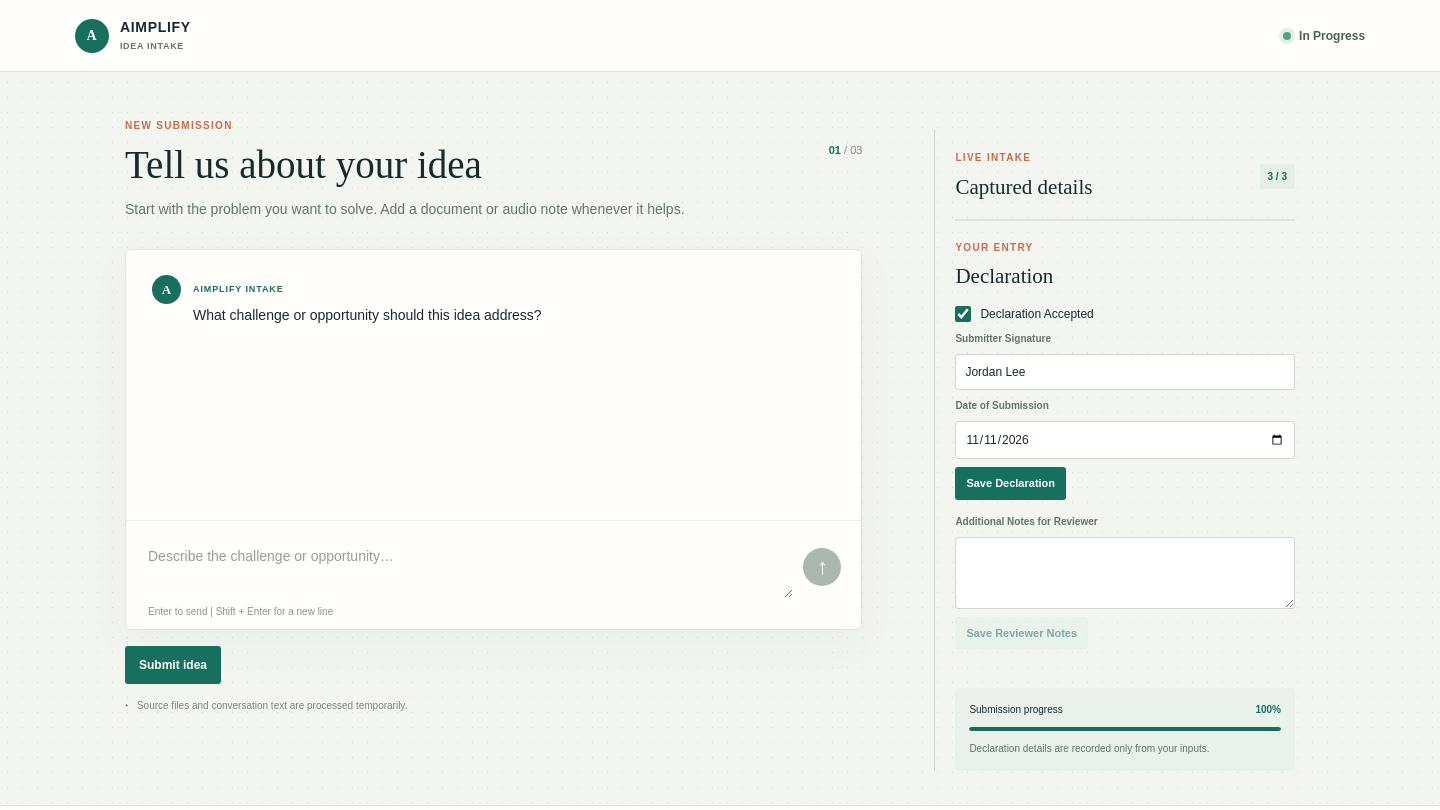
Scenario: submission outcomes › blocks submission while declaration edits are unsaved
This screenshot has width=1440, height=810.
Replace the text in the field labelled "Submitter Signature" with "Changed signature" at (1125, 372), box [955, 354, 1295, 390]
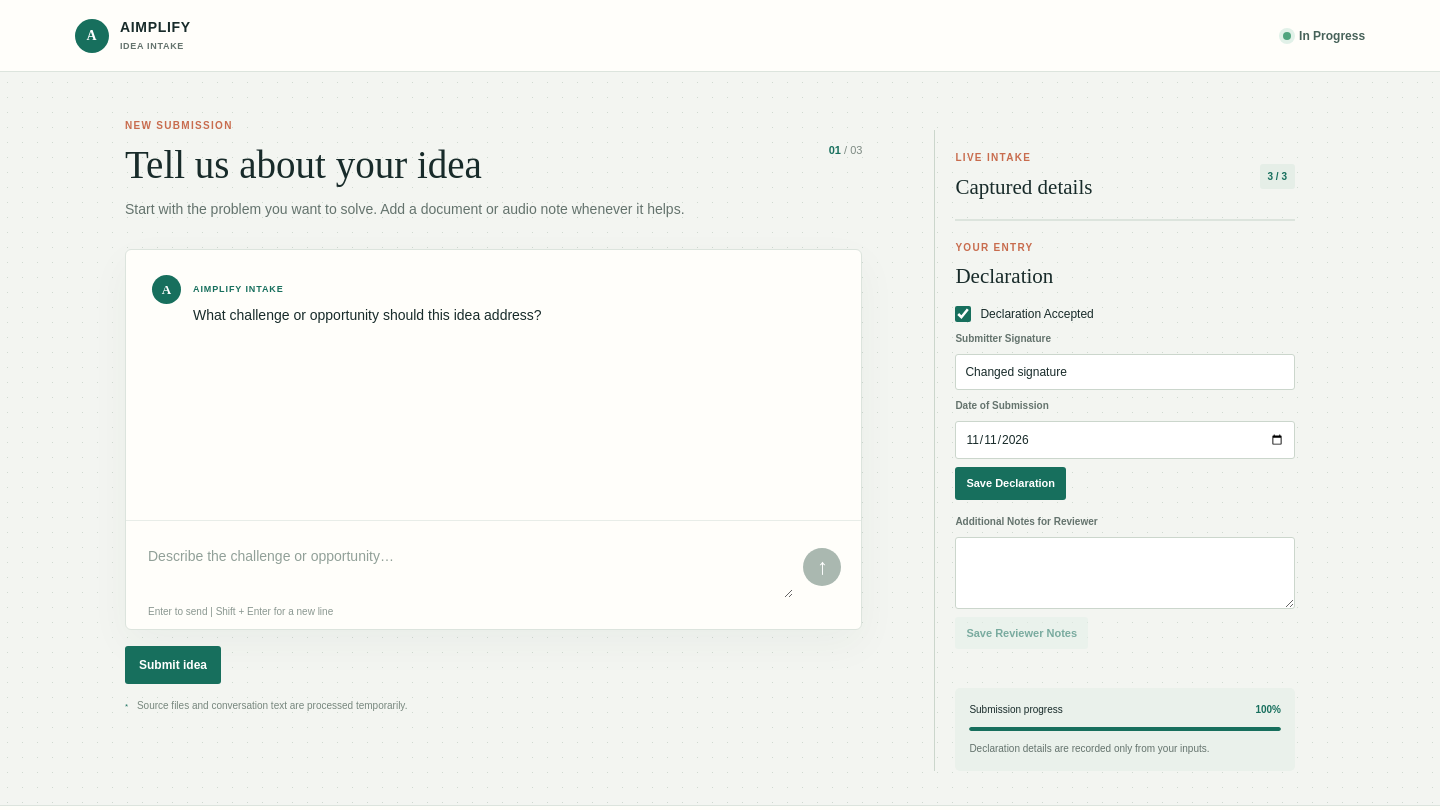
Click the button "Submit idea".
click(173, 665)  # box [125, 646, 221, 684]
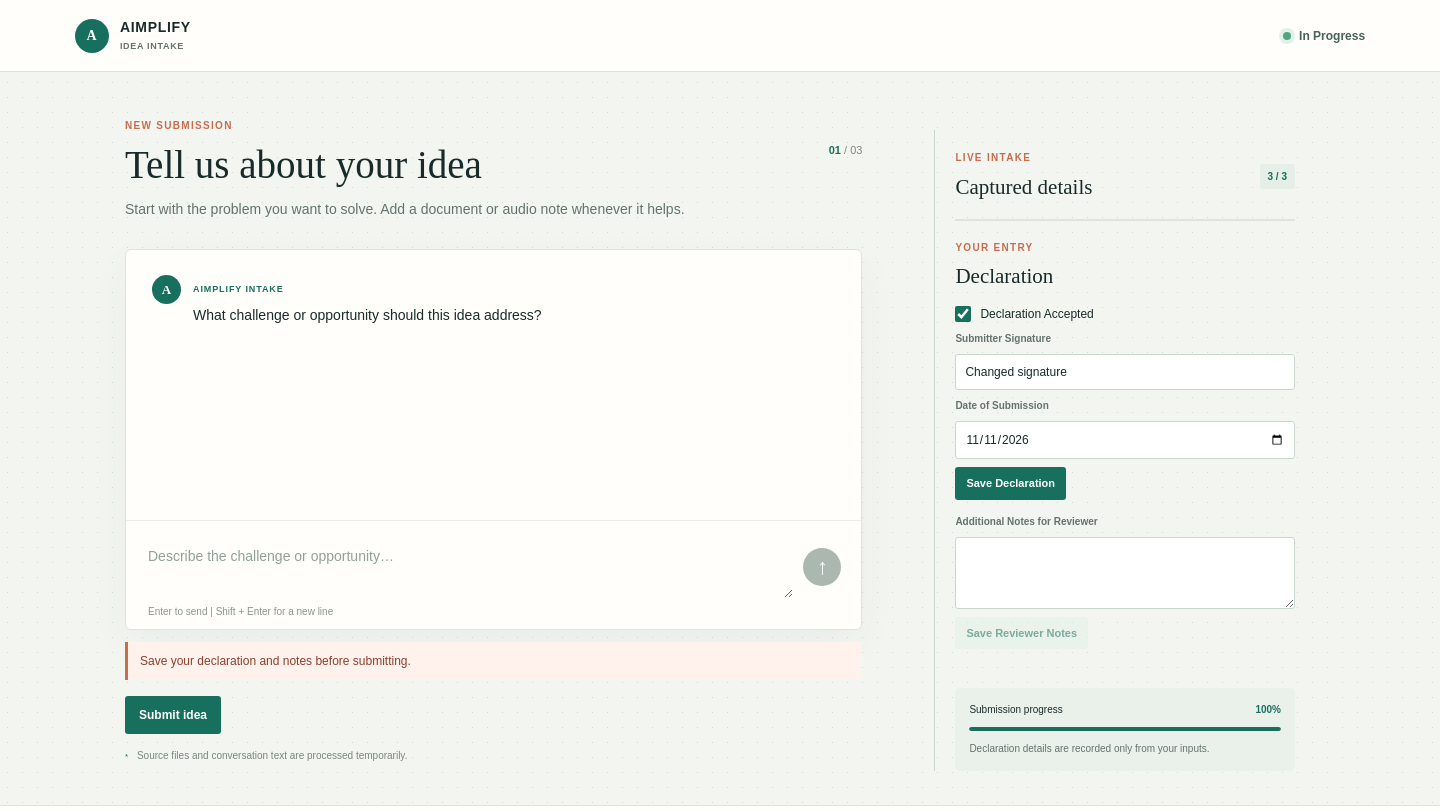
Now the message shows "Save your declaration", box [140, 654, 411, 668]
